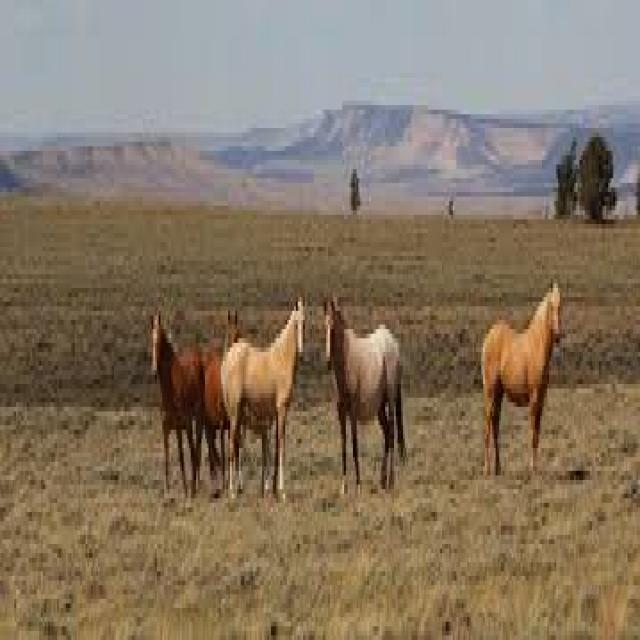horse: (213, 286, 310, 510), (320, 280, 414, 508), (477, 268, 563, 477), (146, 301, 207, 505)
